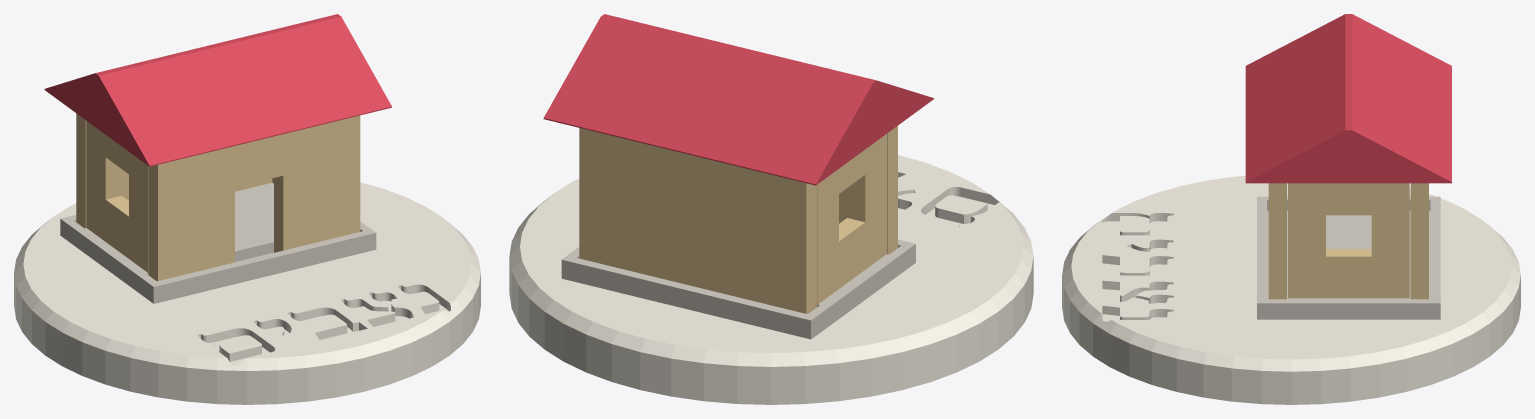
The model's file is nitzavim.glb.
The picture shows the model from 3 angles, left to right: view 1: azimuth 30°, elevation 25°; view 2: azimuth 150°, elevation 25°; view 3: azimuth 270°, elevation 25°; orthographic projection. The views are drawn at different scales.
Visible parts, largest first — view 1: stage, roof, front, floor, side-1, back; view 2: stage, roof, back, floor, side-1, front; view 3: stage, roof, side-2, floor, front, back.
Part boxes in pixels (left/top/right/bottom): stage: left=14, top=182, right=480, bottom=404; roof: left=44, top=14, right=391, bottom=166; front: left=148, top=115, right=360, bottom=281; floor: left=60, top=182, right=376, bottom=303; side-1: left=86, top=121, right=148, bottom=272; back: left=76, top=113, right=272, bottom=228; stage: left=509, top=155, right=1033, bottom=404; roof: left=543, top=14, right=933, bottom=185; back: left=579, top=128, right=816, bottom=313; floor: left=561, top=239, right=915, bottom=339; side-1: left=817, top=134, right=886, bottom=304; front: left=839, top=126, right=897, bottom=254; stage: left=1062, top=175, right=1520, bottom=404; roof: left=1245, top=14, right=1451, bottom=183; side-2: left=1288, top=183, right=1409, bottom=298; floor: left=1257, top=196, right=1440, bottom=319; front: left=1268, top=183, right=1286, bottom=299; back: left=1410, top=183, right=1428, bottom=299.
Bounding box in the file's own units: 40 × 22.7 × 40.
